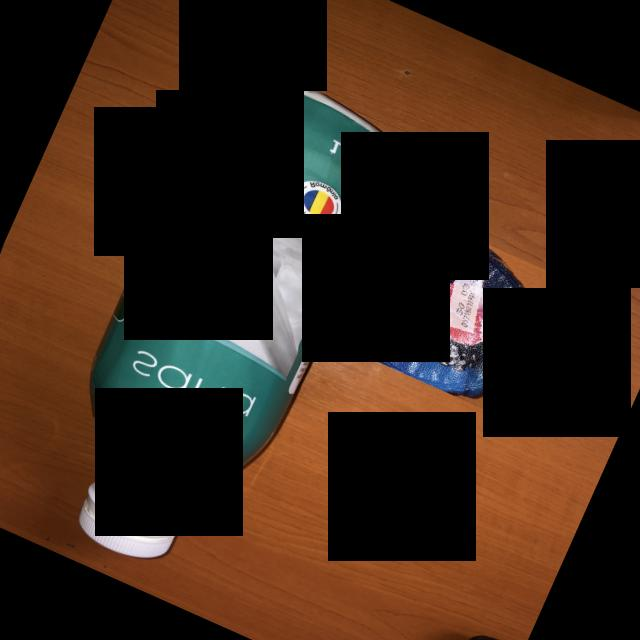yogurt: (308, 192, 552, 412)
